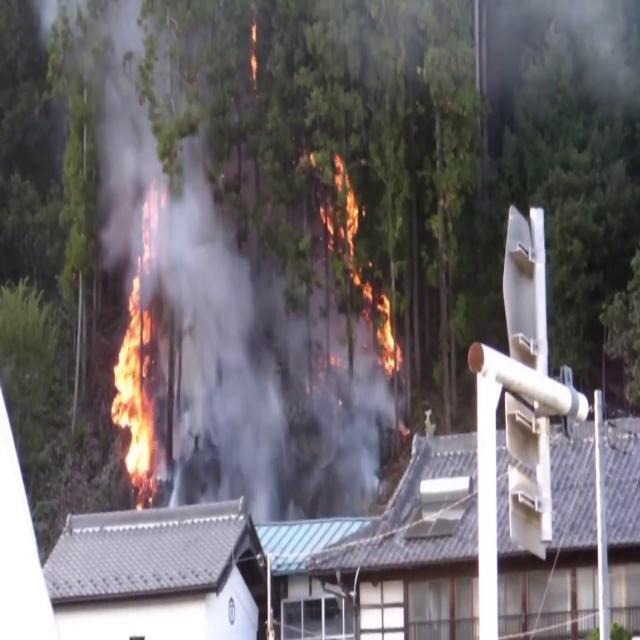Fire: (106, 278, 163, 494), (322, 153, 367, 278), (371, 281, 404, 386)
Smoke: (151, 152, 396, 558), (85, 7, 179, 268)
